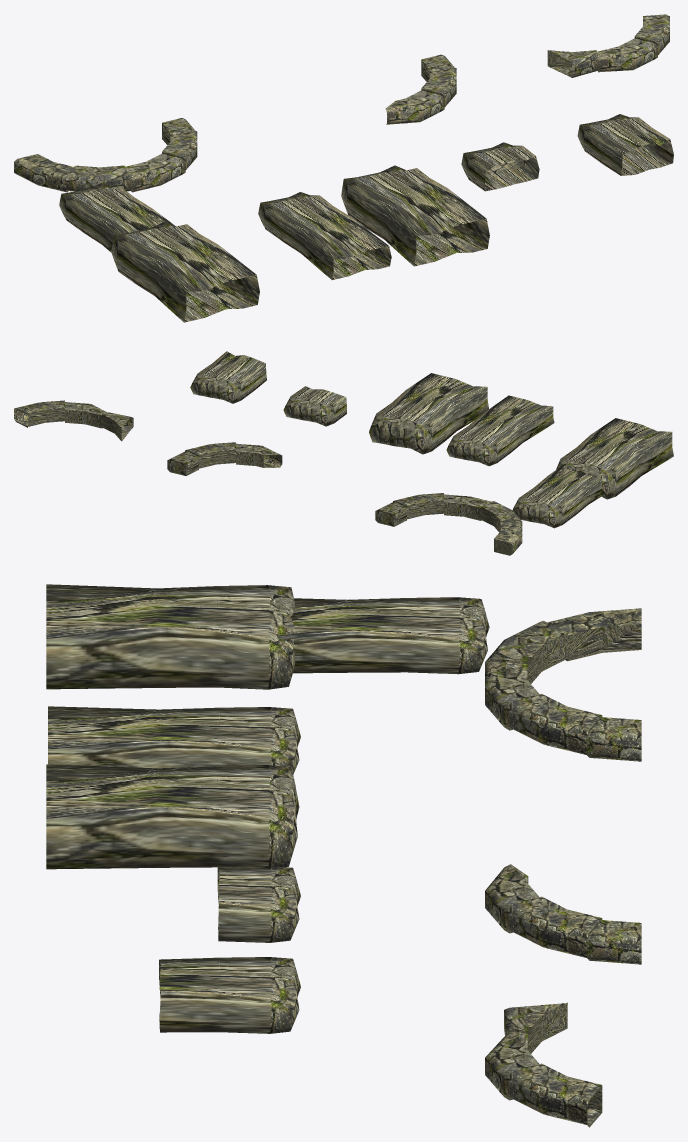
File: bridgePieces.FBX
3 views of the same model, one above another, from view 1: azimuth 30°, elevation 25°; view 2: azimuth 150°, elevation 25°; view 3: azimuth 270°, elevation 25° (orthographic). The views are drawn at different scales.
Parts seen in each view (by area): view 1: Object260, Object261, Object262, Stair038, Object263, Stair044, Object264, Stair043; view 2: Object260, Object261, Object262, Stair038, Object263, Stair044, Stair043, Object264; view 3: Object260, Object261, Object262, Stair038, Object263, Stair044, Stair043, Object264.
Part boxes in pixels (bbox=[...]): Object260: bbox=[59, 183, 259, 322]; Object261: bbox=[341, 165, 489, 266]; Object262: bbox=[258, 192, 391, 279]; Stair038: bbox=[14, 118, 197, 192]; Object263: bbox=[577, 114, 673, 175]; Stair044: bbox=[547, 14, 669, 77]; Object264: bbox=[461, 142, 539, 191]; Stair043: bbox=[385, 54, 456, 124]; Object260: bbox=[512, 418, 673, 528]; Object261: bbox=[369, 373, 488, 454]; Object262: bbox=[446, 395, 554, 466]; Stair038: bbox=[375, 493, 522, 555]; Object263: bbox=[190, 351, 266, 403]; Stair044: bbox=[14, 400, 133, 441]; Stair043: bbox=[167, 442, 282, 475]; Object264: bbox=[283, 386, 346, 426]; Object260: bbox=[46, 584, 489, 689]; Object261: bbox=[46, 764, 299, 869]; Object262: bbox=[48, 706, 300, 774]; Stair038: bbox=[485, 608, 641, 761]; Object263: bbox=[159, 957, 300, 1033]; Stair044: bbox=[485, 1002, 602, 1127]; Stair043: bbox=[485, 864, 641, 964]; Object264: bbox=[217, 866, 300, 942].
Bounding box in the file's own units: 21.45 × 1.29 × 10.53.
